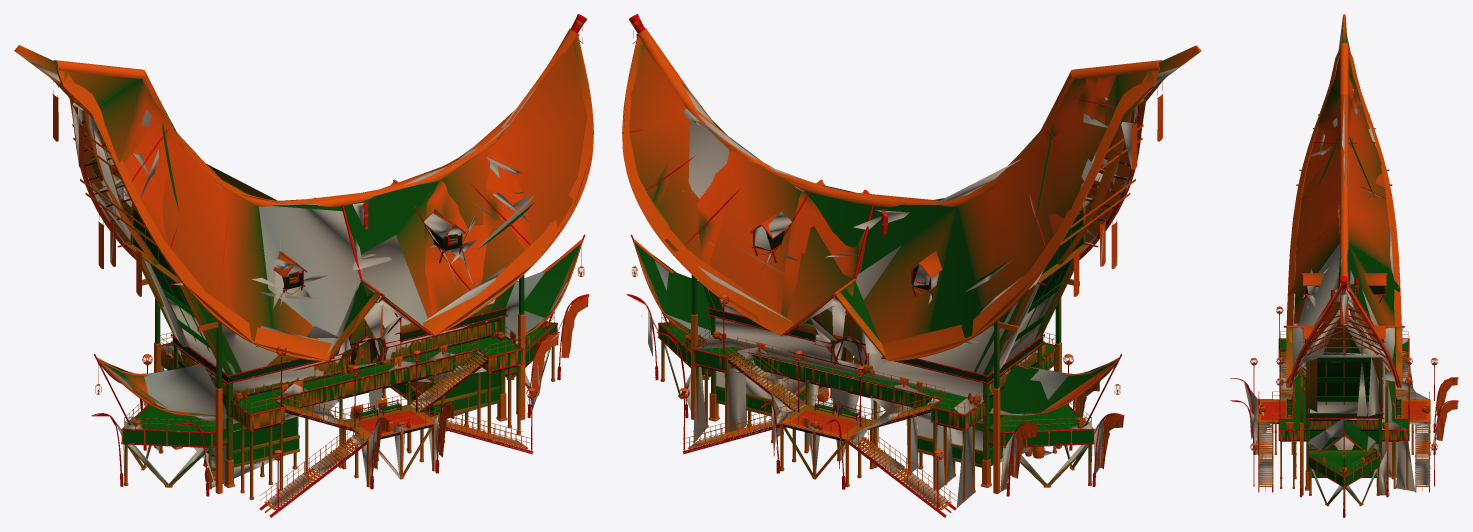
The model's file is KB3D_GAE_BldgLG_G.glb.
3 views of the same model, side by side, from view 1: azimuth 30°, elevation 25°; view 2: azimuth 150°, elevation 25°; view 3: azimuth 270°, elevation 25° (orthographic). The views are drawn at different scales.
Visible parts, largest first — view 1: L1, L0, L2; view 2: L1, L0, L2; view 3: L1, L0, L2.
Boxes of the visible parts, box(x1,y1,x2,y2) form: L1: box(16, 15, 592, 512); L0: box(14, 14, 593, 517); L2: box(17, 53, 578, 507); L1: box(623, 15, 1199, 511); L0: box(622, 14, 1201, 517); L2: box(636, 35, 1179, 507); L1: box(1232, 14, 1457, 508); L0: box(1230, 15, 1458, 517); L2: box(1244, 17, 1450, 502).
Bounding box in the file's own units: 63.43 × 49.99 × 31.65.
